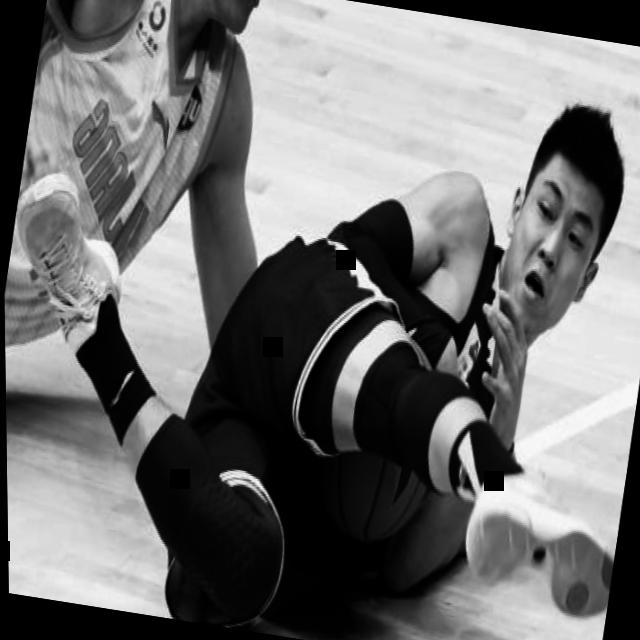Fall-Detected: (0, 0, 640, 640), (0, 0, 310, 394)
